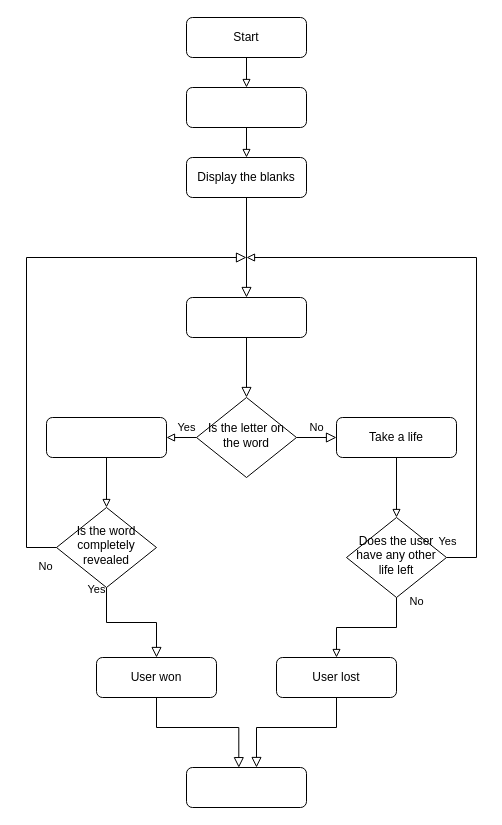
Image size: 502x825. Some labels were removed from this diagram. The shapes that lost their labels are listed below. From the top down, each one's box as (x1, y1, x2, y2) in pixels, then its label:
(186, 86, 306, 128): Generate a random word
(186, 296, 306, 338): Ask the user for a letter
(46, 416, 166, 458): Reveal the letter
(186, 766, 306, 808): Stop
